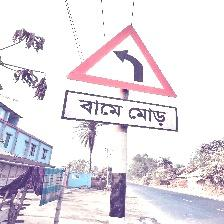Left-Turn: (63, 24, 179, 133)
